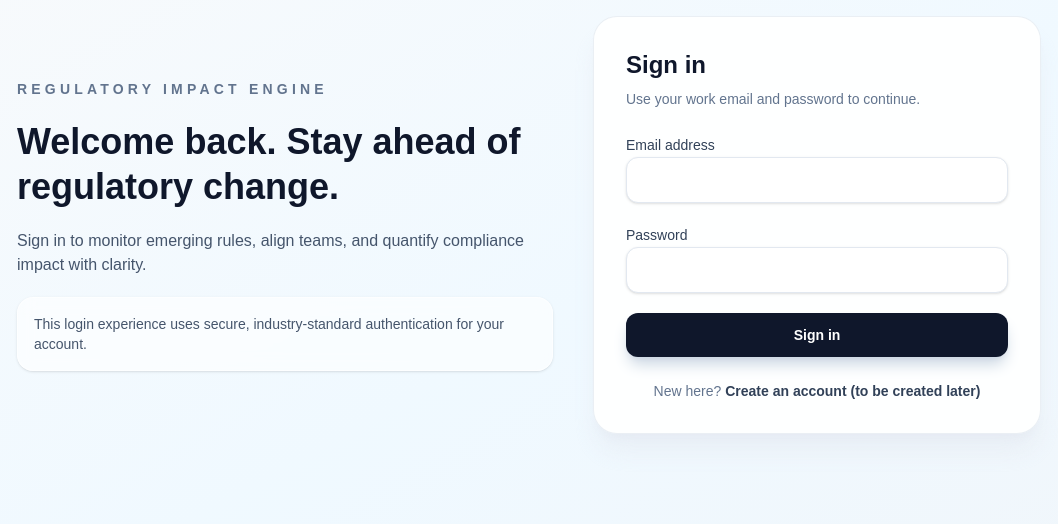
LoginPage › should show error message on invalid credentials
The width and height of the screenshot is (1058, 524).
Type "bad@example.com" into the field labelled "Email address" at x=817, y=180, box [626,157,1008,203]
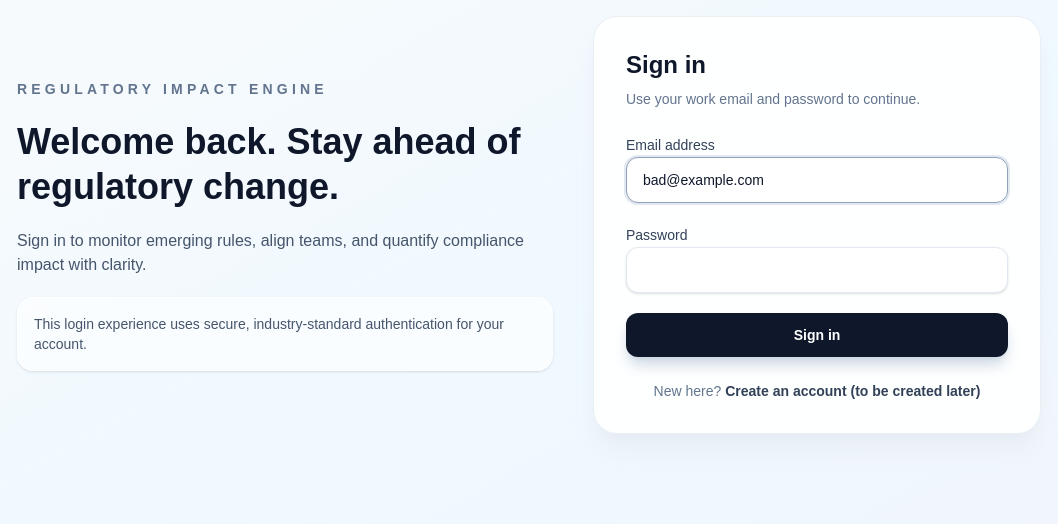
Type "wrongpass" into the password field labelled "Password" at x=817, y=270, box [626,247,1008,293]
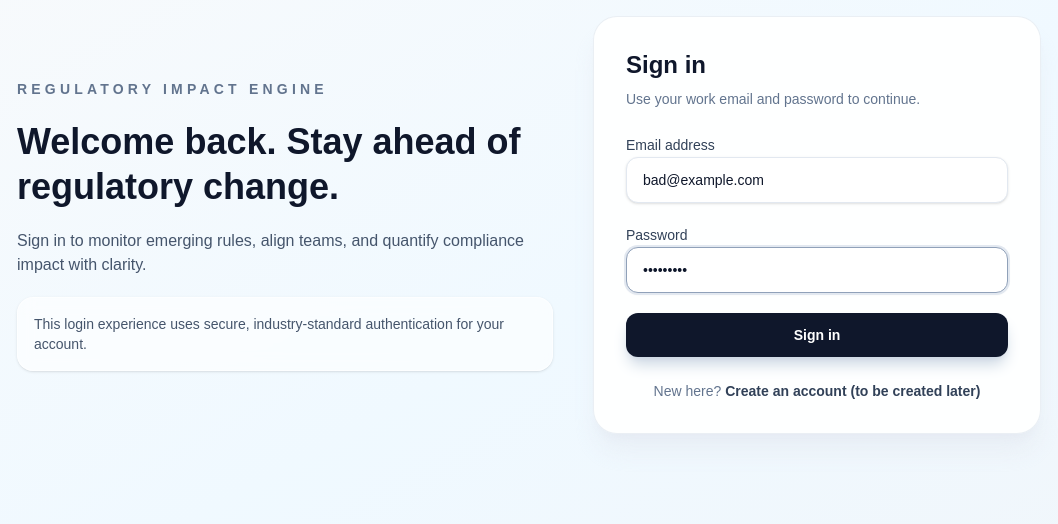
Click the button "Sign in" at x=817, y=335, box [626,313,1008,357]
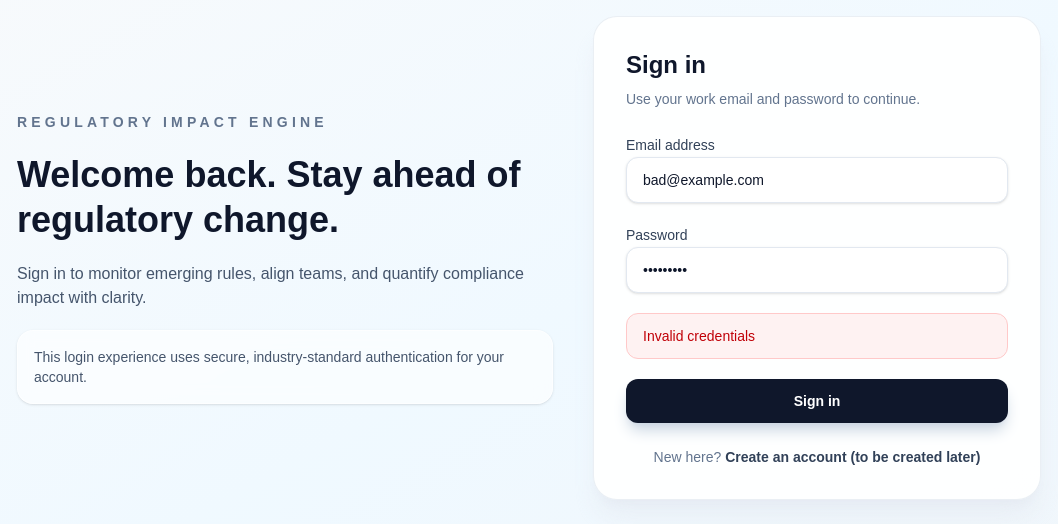
Check: the message reads "Invalid credentials", box [643,328,755,344]
